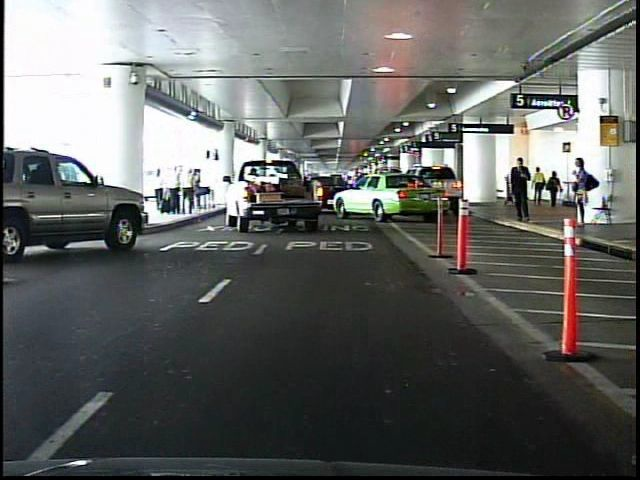person: (569, 155, 595, 231), (506, 153, 532, 224), (544, 169, 563, 209), (533, 166, 544, 206)
